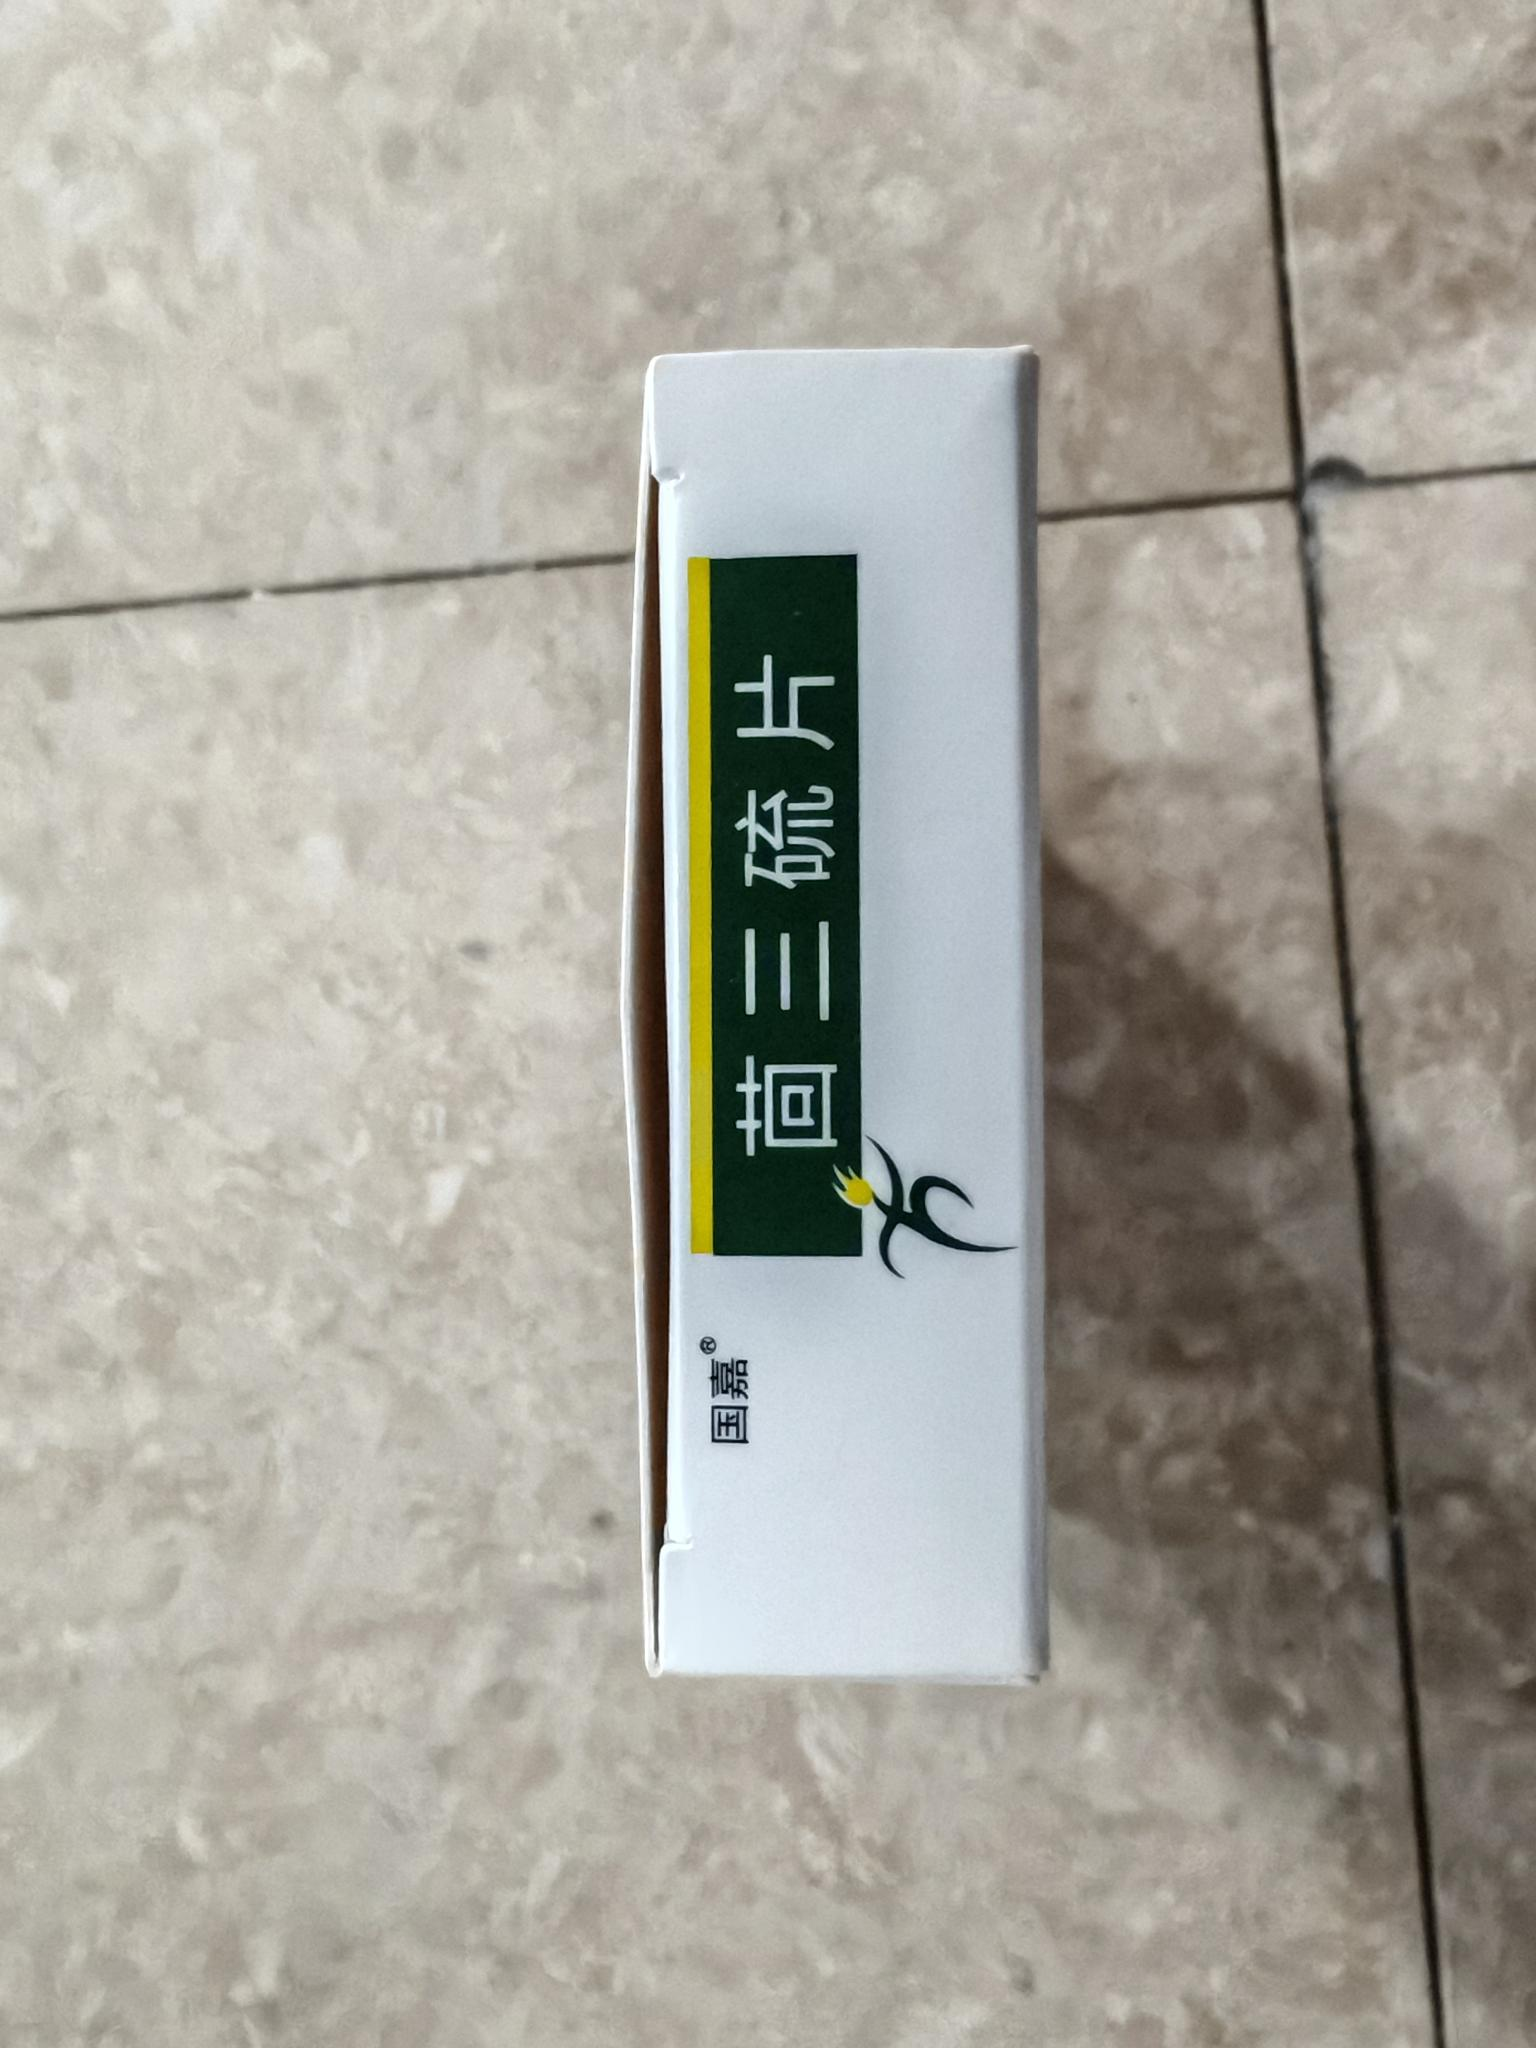Medicine4: (605, 313, 1084, 1729)
